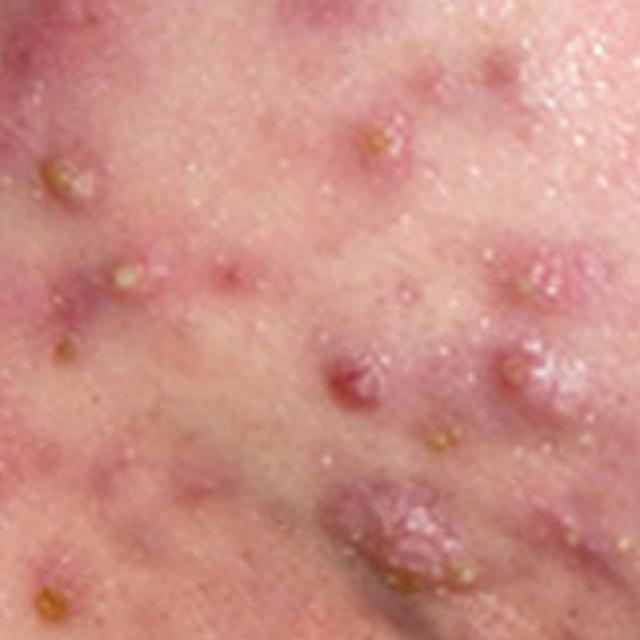acne: (35, 138, 271, 338), (283, 456, 515, 618), (464, 237, 602, 423), (527, 445, 640, 640), (86, 404, 238, 527), (322, 76, 428, 195), (247, 1, 433, 58), (8, 560, 132, 640), (310, 337, 400, 443), (472, 22, 550, 138), (614, 99, 640, 228)
